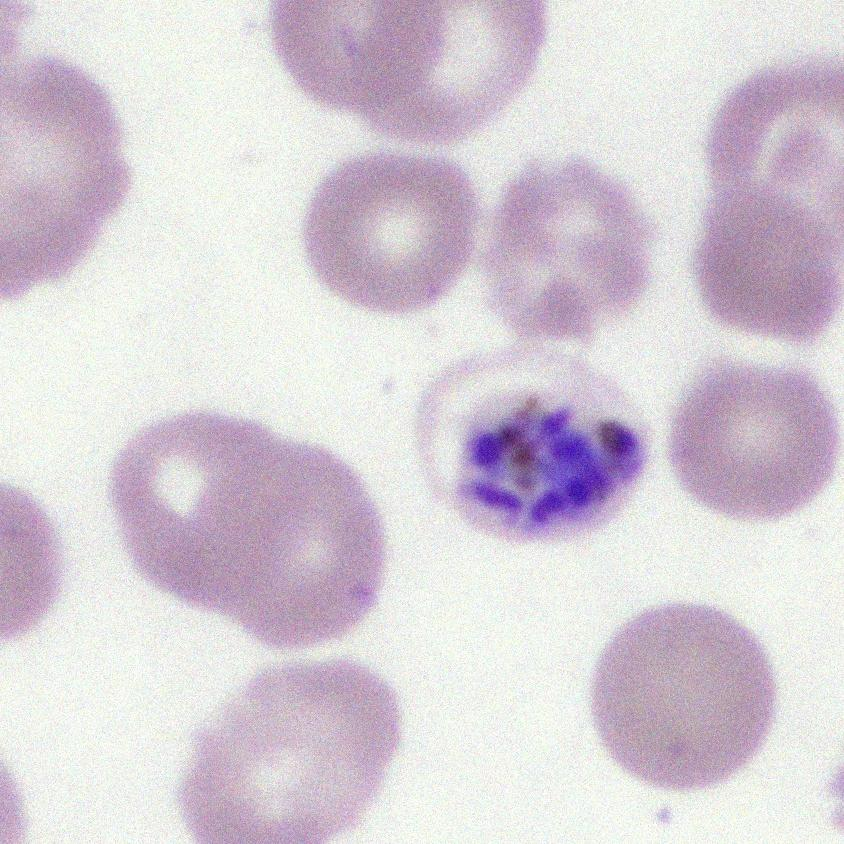Infected: (415, 349, 648, 545)
Uninfected: (182, 655, 399, 844), (203, 440, 378, 649), (107, 410, 294, 605), (595, 600, 775, 790), (0, 52, 128, 302), (492, 162, 655, 333), (297, 150, 471, 309), (665, 359, 838, 517), (355, 0, 544, 144), (702, 59, 844, 226), (693, 182, 844, 339), (265, 0, 440, 116)
